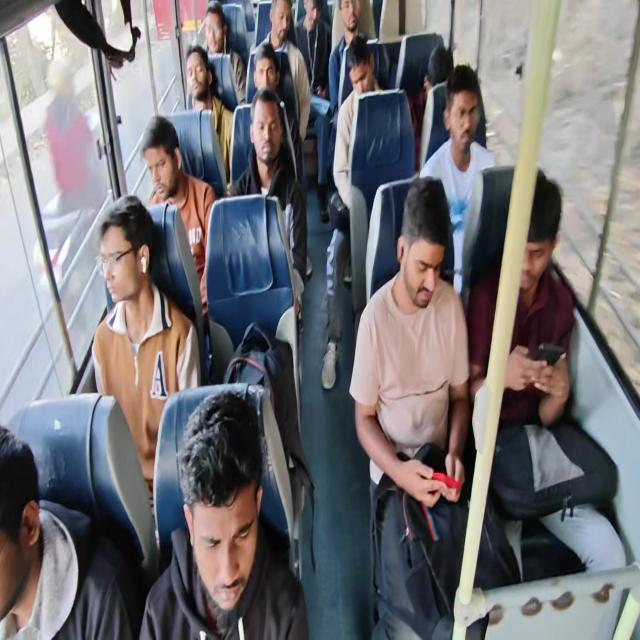person: (467, 166, 627, 636), (348, 175, 472, 638), (138, 388, 309, 639), (91, 194, 202, 537), (0, 425, 133, 639), (320, 34, 384, 390), (227, 87, 308, 317), (418, 64, 496, 296), (140, 115, 217, 322), (42, 59, 107, 215), (326, 0, 375, 202), (249, 0, 311, 141), (294, 0, 332, 221), (251, 42, 303, 184), (184, 44, 233, 182), (53, 0, 141, 67), (201, 0, 246, 106), (294, 0, 331, 98)
